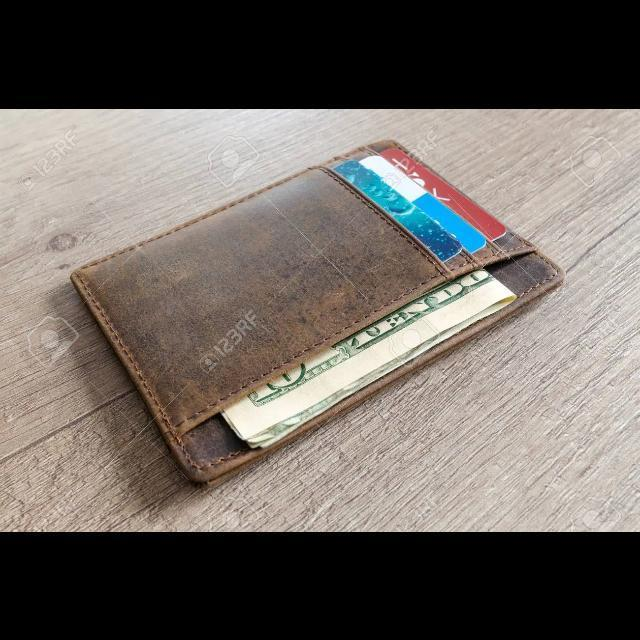wallet: (48, 126, 606, 496)
